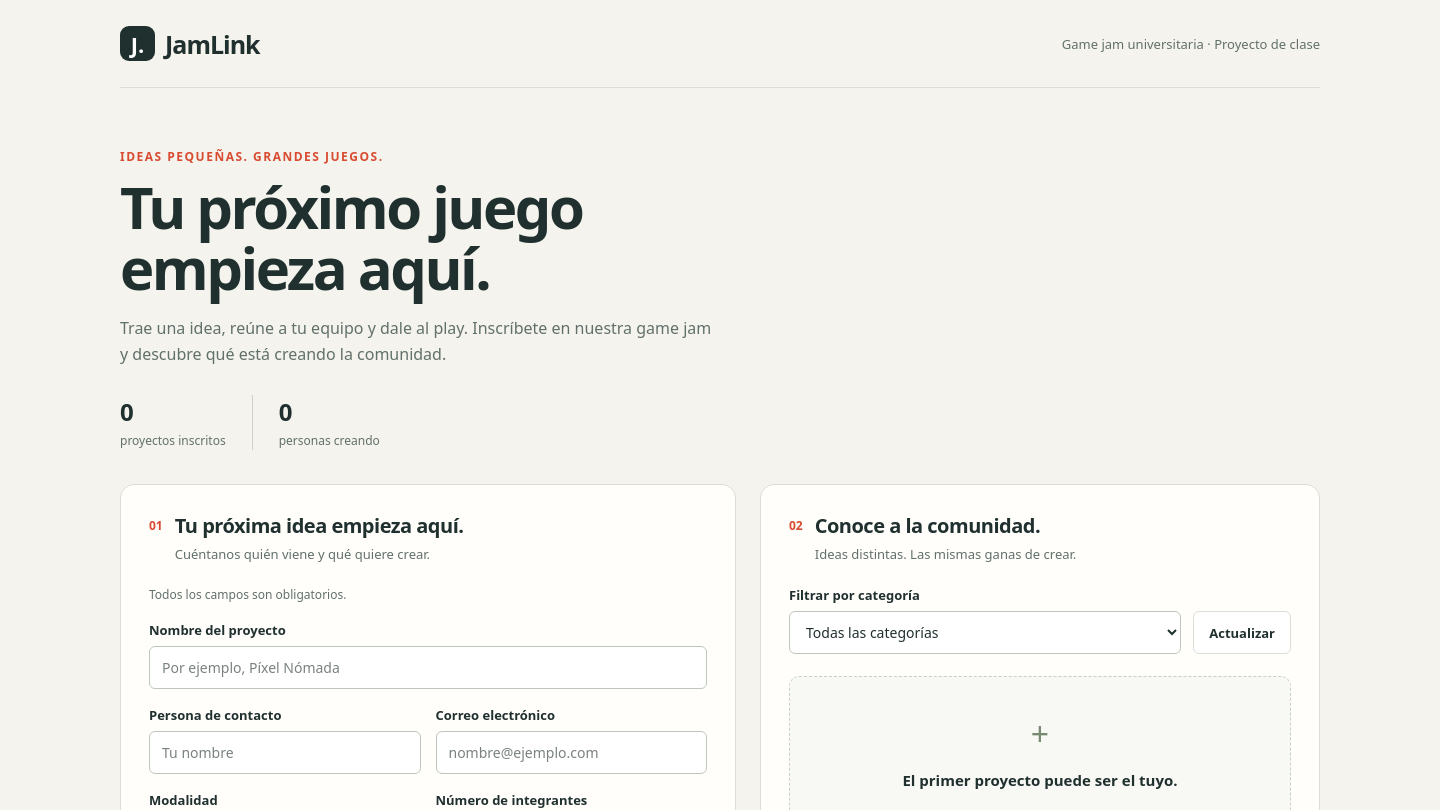
Scenario: JamLink: formulario y listado conectados › crea con POST, vuelve a obtener el listado y limpia el formulario tras el éxito
The image size is (1440, 810).
Check: the heading "El primer proyecto puede ser el tuyo." is shown, box [902,770,1178,790]
Type "Píxel Nómada" into the field labelled "Nombre del proyecto" at (428, 668), box [149,646,707,689]
Type "Alex Prueba" into the field labelled "Persona de contacto" at (285, 753), box [149,731,420,774]
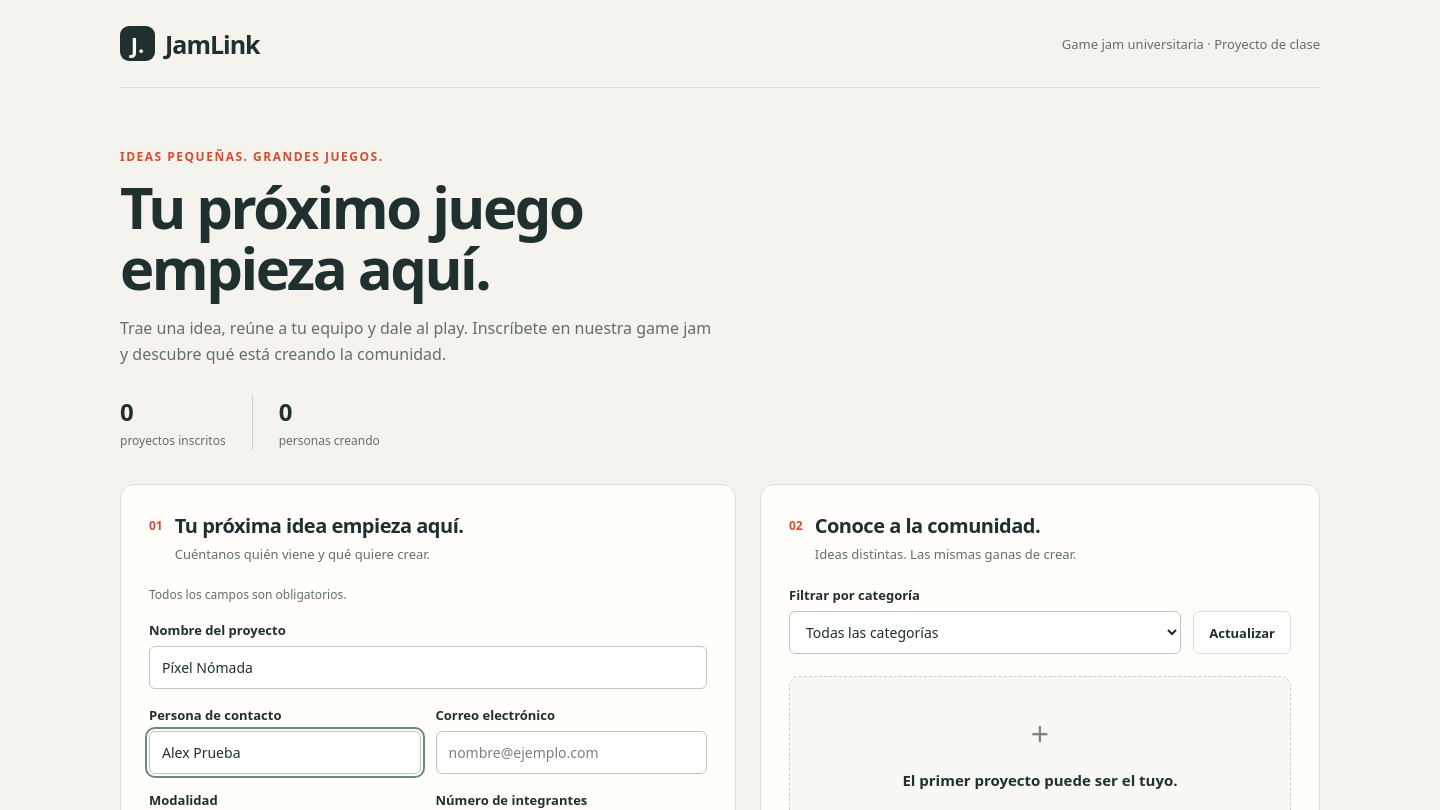
Type "alex@example.com" into the field labelled "Correo electrónico" at (571, 753), box [436,731,707,774]
(page scrolled)
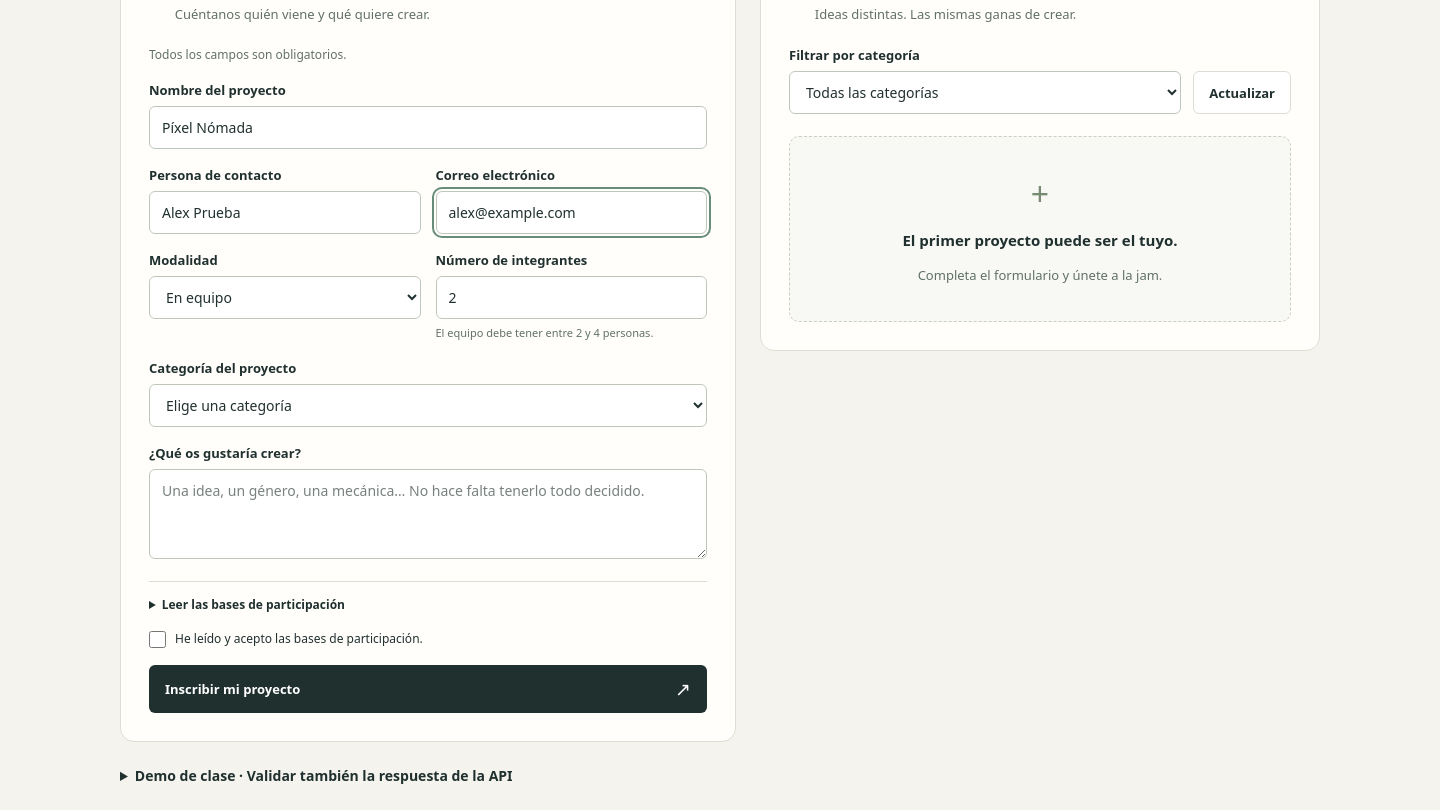
Select "Videojuegos" in the dropdown labelled "Categoría del proyecto" at (428, 405), box [149,384,707,427]
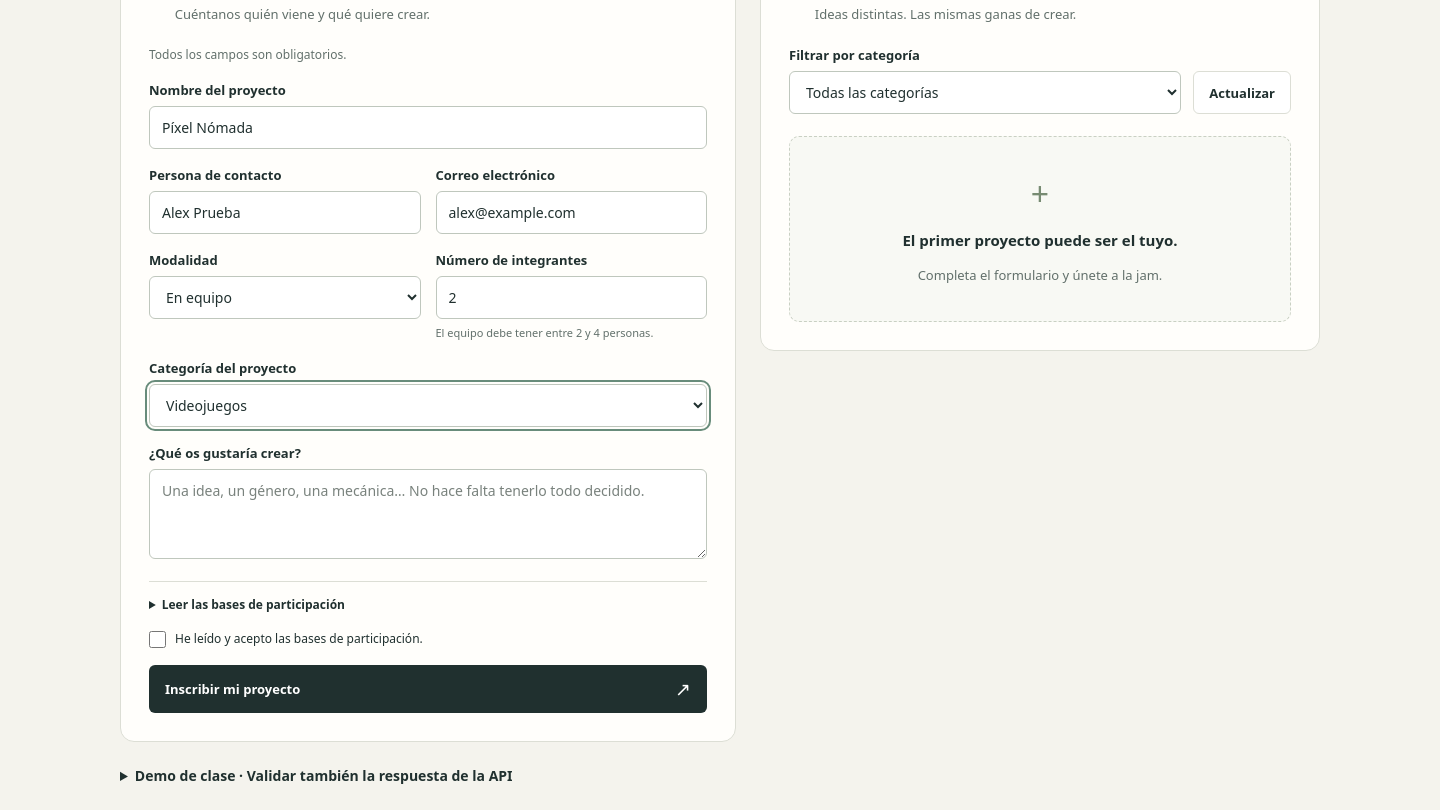
Type "Un juego cooperativo para explorar un planeta desconocido." into the text box labelled "¿Qué os gustaría crear?" at (428, 514), box [149,469,707,559]
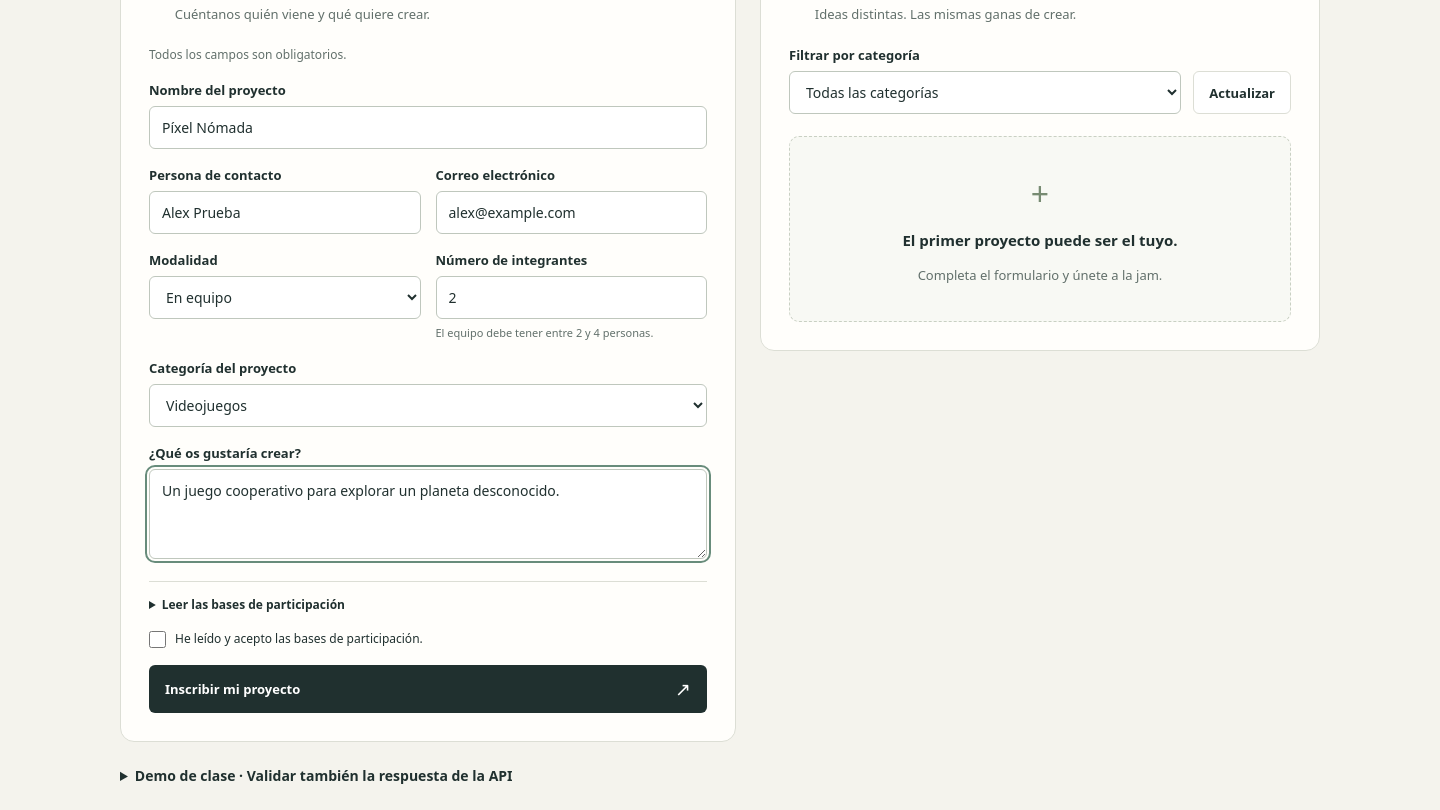
Click the checkbox labelled "He leído y acepto las bases de participación." at (158, 639), box [149,631,166,648]
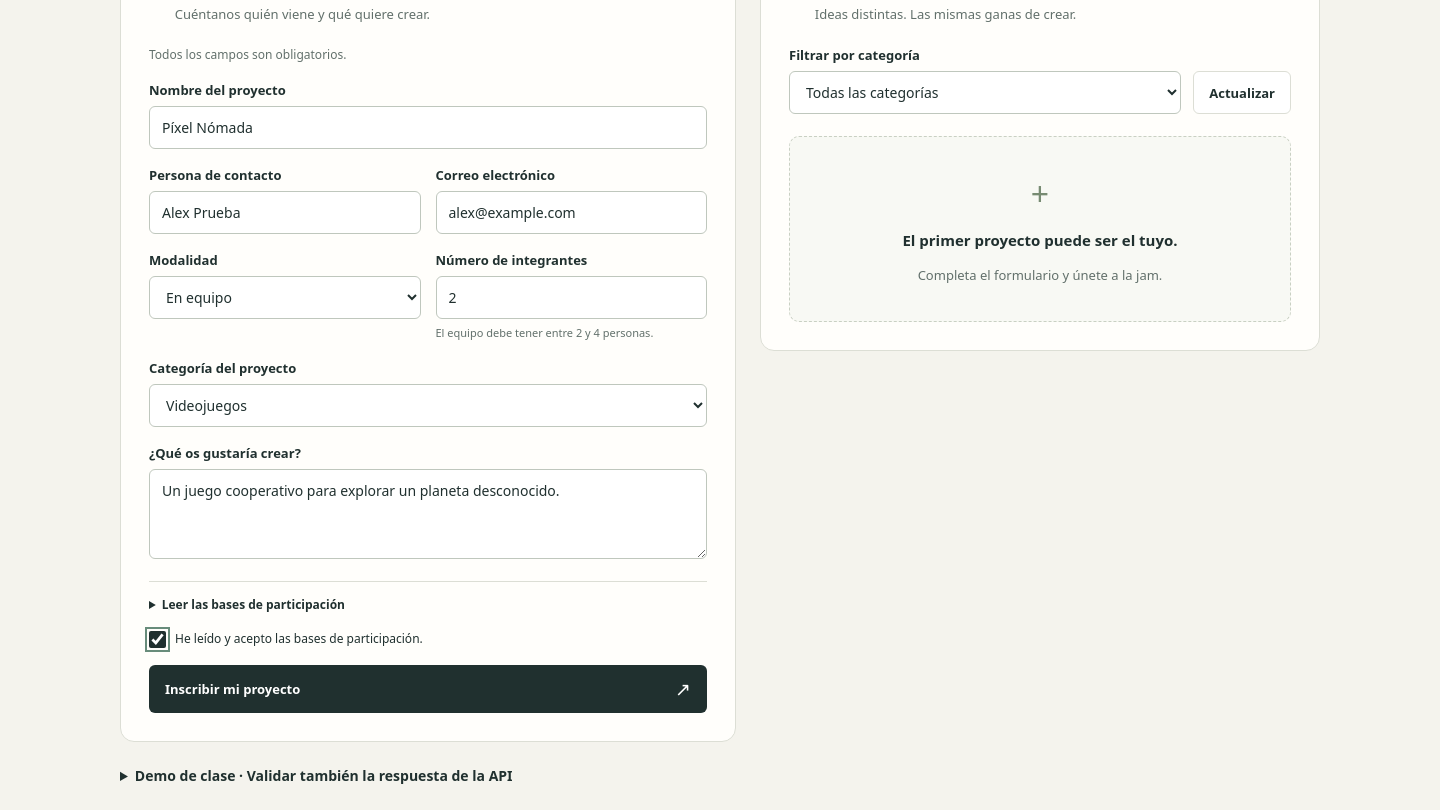
Click the button "Inscribir mi proyecto ↗" at (233, 689), box [149,665,707,713]
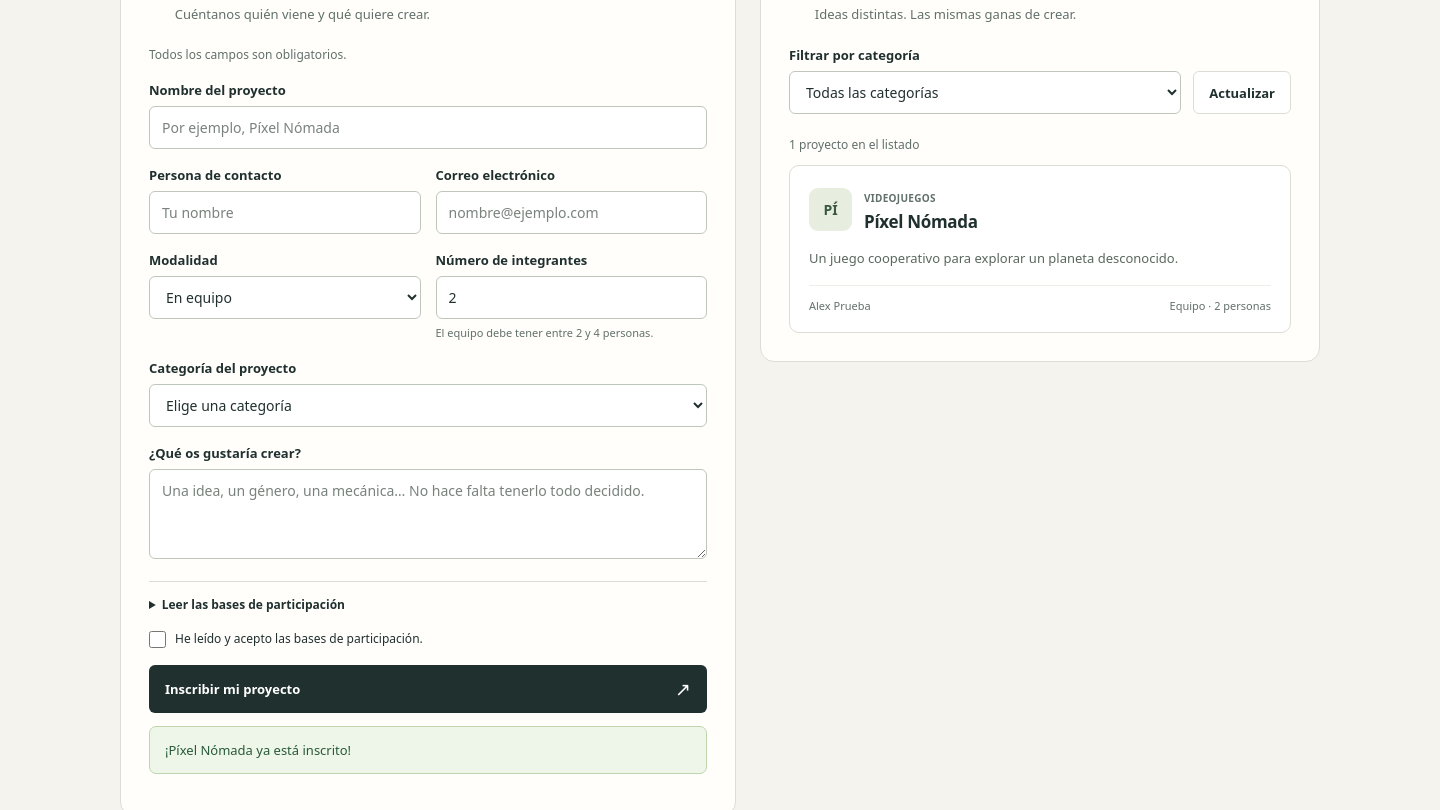
Check: the text "¡Píxel Nómada ya está inscrito!" is shown, box [149,726,707,774]
Check: the heading "Píxel Nómada" is shown, box [864,210,978,233]
Check: the field labelled "Nombre del proyecto" is empty, box [149,106,707,149]
